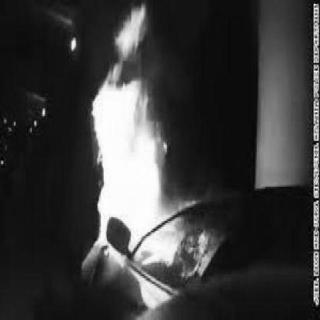Fire: (65, 1, 221, 273)
